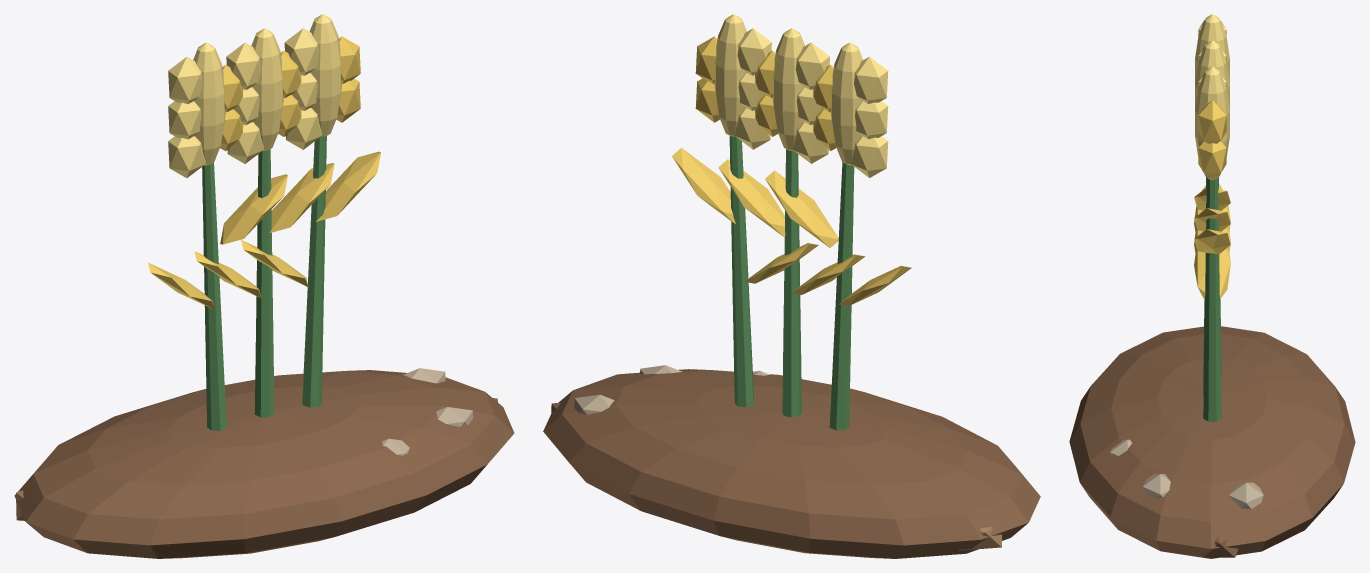
File: (1)wheat.fbx
The picture shows the model from 3 angles, left to right: view 1: azimuth 30°, elevation 25°; view 2: azimuth 150°, elevation 25°; view 3: azimuth 270°, elevation 25°; orthographic projection. The views are drawn at different scales.
Parts seen in each view (by area): view 1: Wheat_Level_1; view 2: Wheat_Level_1; view 3: Wheat_Level_1.
Boxes of the visible parts, x1,y1,x2,y2 form: Wheat_Level_1: (14, 14, 514, 558); Wheat_Level_1: (543, 14, 1040, 558); Wheat_Level_1: (1069, 14, 1355, 558).
Size of the model in its own units: 281 by 276 by 159.
